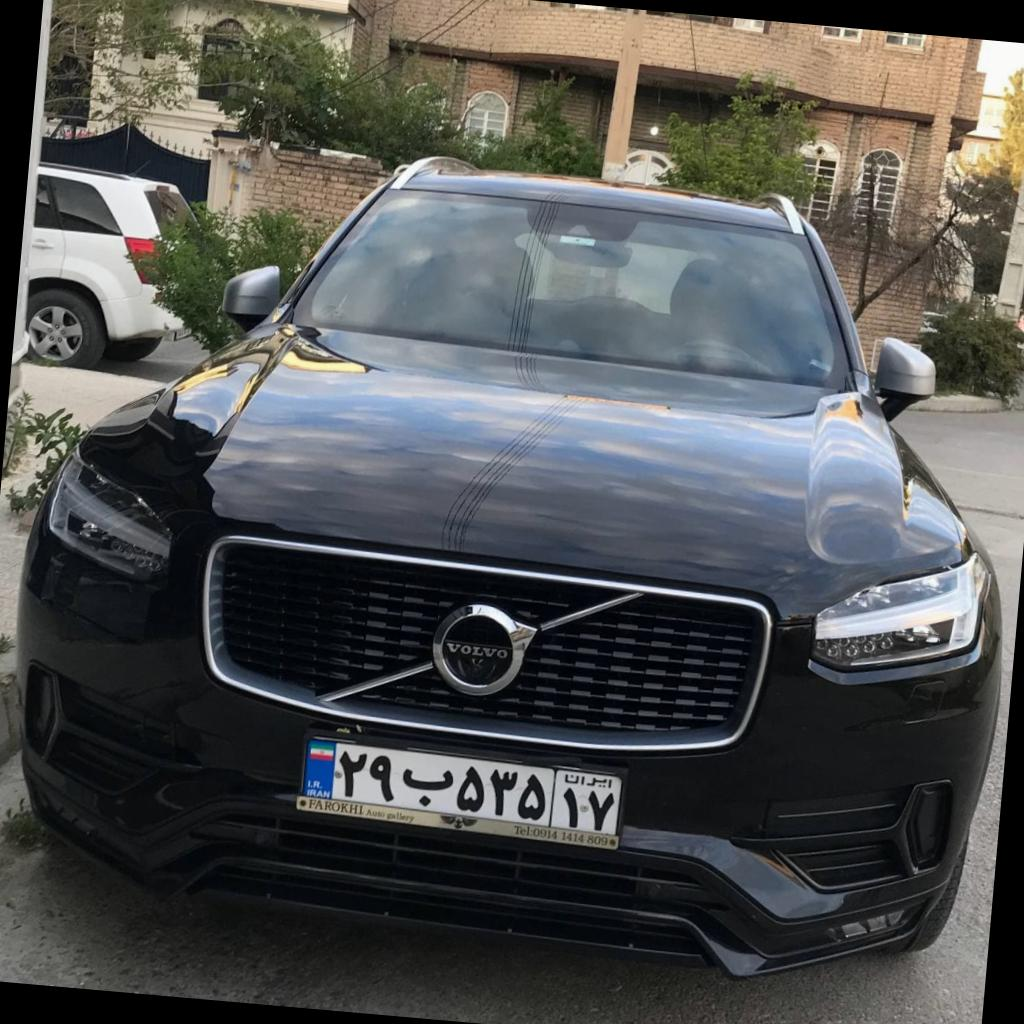Plates: (301, 738, 621, 835)
